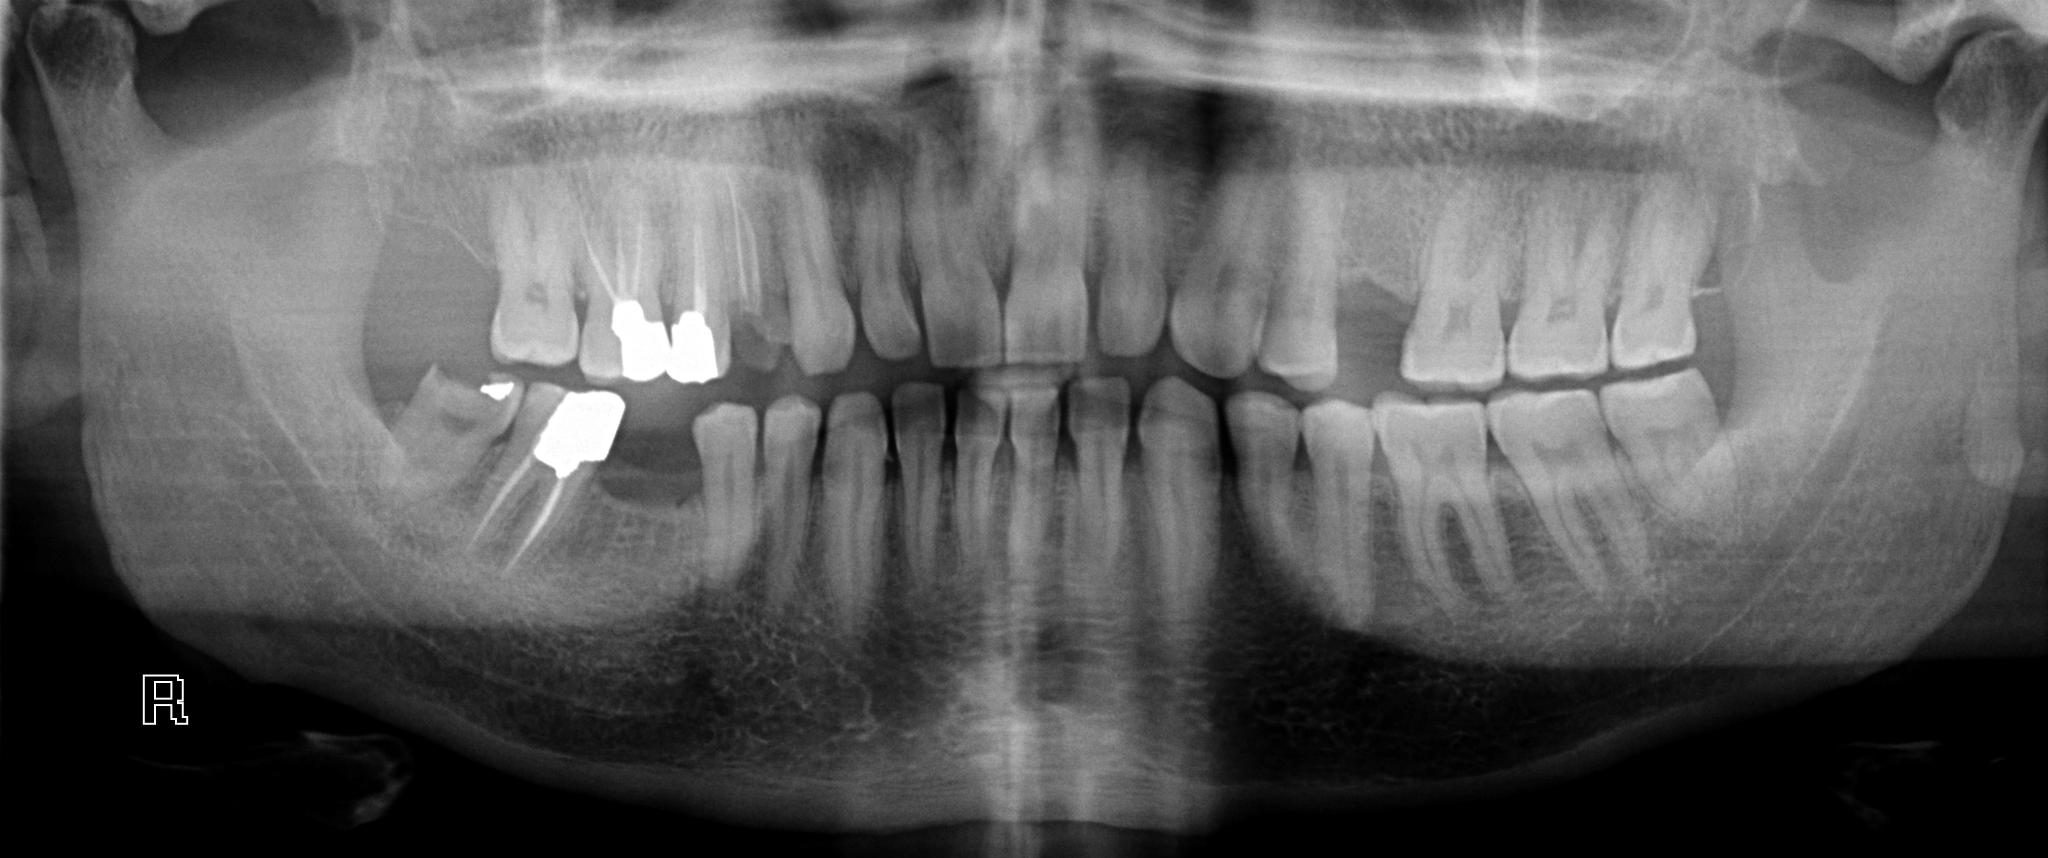Fillings: (389, 363, 521, 520)
Implant: (464, 377, 628, 579), (571, 192, 669, 387), (662, 182, 741, 385)
